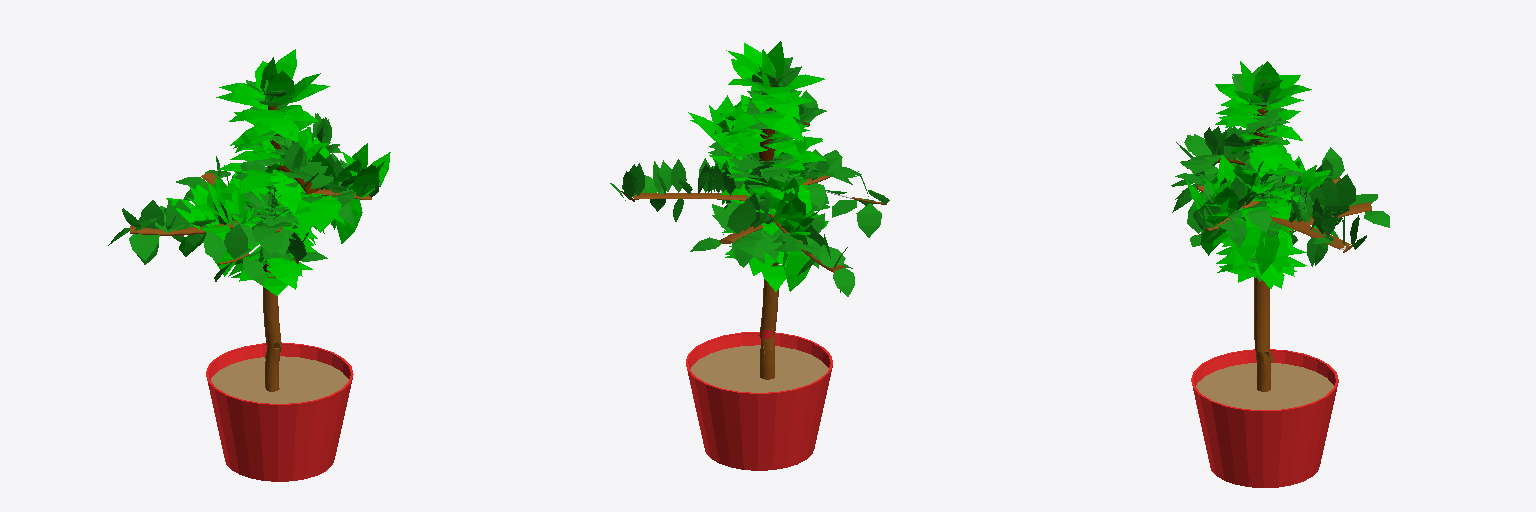
File: plant3.obj
3 views of the same model, side by side, from view 1: azimuth 30°, elevation 25°; view 2: azimuth 150°, elevation 25°; view 3: azimuth 270°, elevation 25° (orthographic).
Visible parts, largest first — view 1: Mesh5 Component1 Plant_1_1 Model, Mesh2 Component1 Plant_1_1 Model, Mesh3 Component1 Plant_1_1 Model, Mesh311 Component1 Plant_1_1 Model, Mesh475 Component1 Plant_1_1 Model, Mesh451 Component1 Plant_1_1 Model; view 2: Mesh5 Component1 Plant_1_1 Model, Mesh2 Component1 Plant_1_1 Model, Mesh436 Component1 Plant_1_1 Model, Mesh3 Component1 Plant_1_1 Model, Mesh309 Component1 Plant_1_1 Model; view 3: Mesh5 Component1 Plant_1_1 Model, Mesh2 Component1 Plant_1_1 Model, Mesh412 Component1 Plant_1_1 Model, Mesh3 Component1 Plant_1_1 Model, Mesh350 Component1 Plant_1_1 Model.
Part boxes in pixels (x1,y1,x2,y2): Mesh5 Component1 Plant_1_1 Model: (206, 343, 353, 481); Mesh2 Component1 Plant_1_1 Model: (130, 106, 371, 363); Mesh3 Component1 Plant_1_1 Model: (265, 348, 279, 391); Mesh311 Component1 Plant_1_1 Model: (224, 224, 247, 259); Mesh475 Component1 Plant_1_1 Model: (270, 170, 301, 205); Mesh451 Component1 Plant_1_1 Model: (265, 70, 294, 102); Mesh5 Component1 Plant_1_1 Model: (686, 332, 832, 470); Mesh2 Component1 Plant_1_1 Model: (621, 83, 845, 353); Mesh436 Component1 Plant_1_1 Model: (785, 250, 810, 291); Mesh3 Component1 Plant_1_1 Model: (760, 334, 774, 379); Mesh309 Component1 Plant_1_1 Model: (856, 203, 881, 237); Mesh5 Component1 Plant_1_1 Model: (1191, 349, 1338, 487); Mesh2 Component1 Plant_1_1 Model: (1187, 104, 1371, 352); Mesh412 Component1 Plant_1_1 Model: (1255, 231, 1279, 275); Mesh3 Component1 Plant_1_1 Model: (1256, 349, 1274, 391); Mesh350 Component1 Plant_1_1 Model: (1233, 211, 1259, 263).
Bounding box in the file's own units: 138 × 229 × 114.